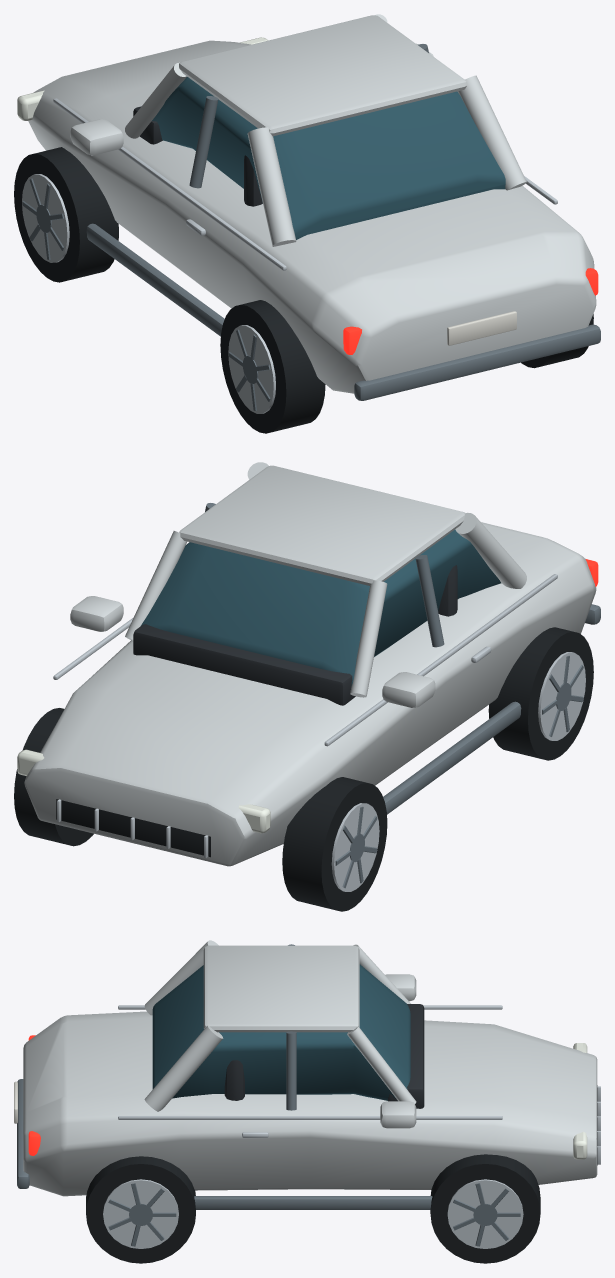
Rendered from Mica_Compact.fbx.
3 renders of one model, top to bottom at view 1: azimuth 30°, elevation 25°; view 2: azimuth 150°, elevation 25°; view 3: azimuth 270°, elevation 25°, orthographic. The views are drawn at different scales.
Parts seen in each view (by area): view 1: Body.001, Wheel_LF.001, Wheel_LR.001, Wheel_RR.001; view 2: Body.001, Wheel_LF.001, Wheel_LR.001, Wheel_RF.001, Headlight.002; view 3: Body.001, Wheel_RF.001, Wheel_RR.001.
Part boxes in pixels (x1,y1,x2,y2): Body.001: (28, 14, 600, 400); Wheel_LF.001: (14, 147, 118, 282); Wheel_LR.001: (220, 300, 325, 433); Wheel_RR.001: (521, 314, 593, 368); Body.001: (24, 462, 600, 866); Wheel_LF.001: (282, 777, 387, 911); Wheel_LR.001: (488, 627, 593, 760); Wheel_RF.001: (14, 708, 93, 846); Headlight.002: (238, 804, 270, 833); Body.001: (14, 940, 600, 1209); Wheel_RF.001: (430, 1154, 540, 1263); Wheel_RR.001: (86, 1156, 195, 1263).
Size of the model in its own units: 2.14 by 1.52 by 3.73.
